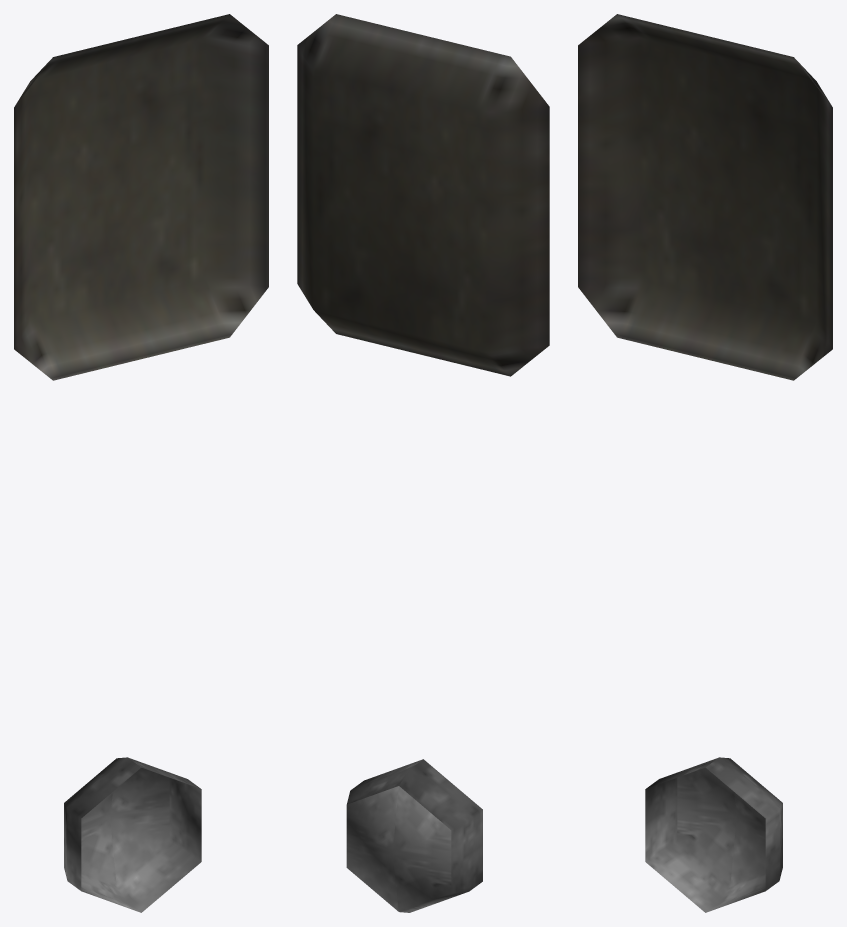
The model's file is railing_ceiling_end_tiny.dae.
3 views of the same model, side by side, from view 1: azimuth 30°, elevation 25°; view 2: azimuth 150°, elevation 25°; view 3: azimuth 330°, elevation 25° (orthographic).
Parts seen in each view (by area): view 1: polySurface661, polySurface662; view 2: polySurface661, polySurface662; view 3: polySurface661, polySurface662.
Part boxes in pixels (<box>): polySurface661: <box>14,14,268,380</box>; polySurface662: <box>64,757,201,912</box>; polySurface661: <box>297,14,549,376</box>; polySurface662: <box>346,759,482,912</box>; polySurface661: <box>578,14,832,380</box>; polySurface662: <box>645,757,782,912</box>.
Size of the model in its own units: 0.2347 by 0.772 by 0.05.
